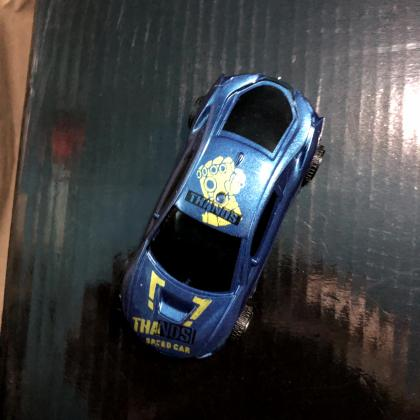Car: (117, 74, 324, 362)
